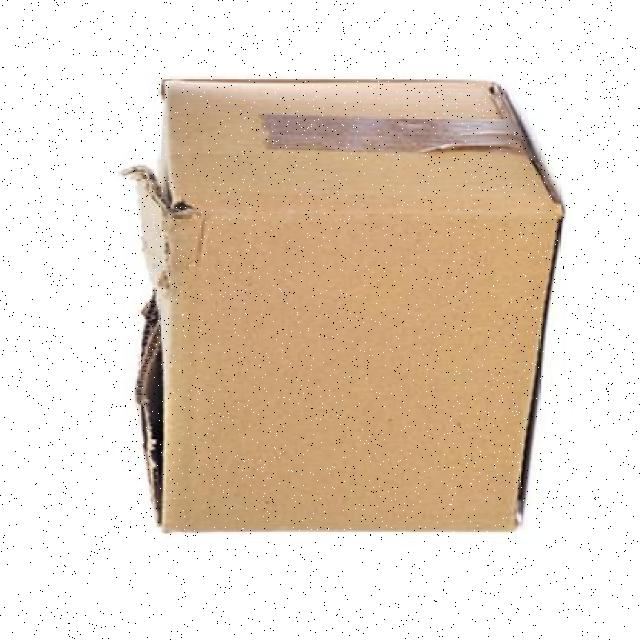defect: (115, 74, 571, 544)
